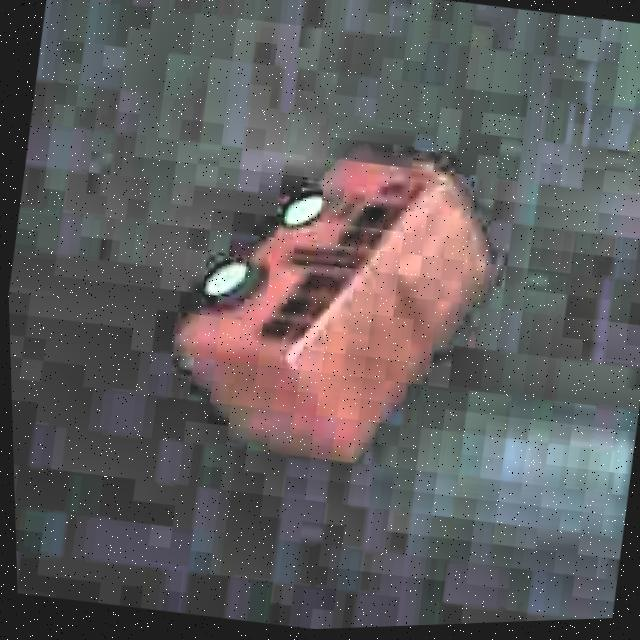bus: (137, 110, 528, 498)
